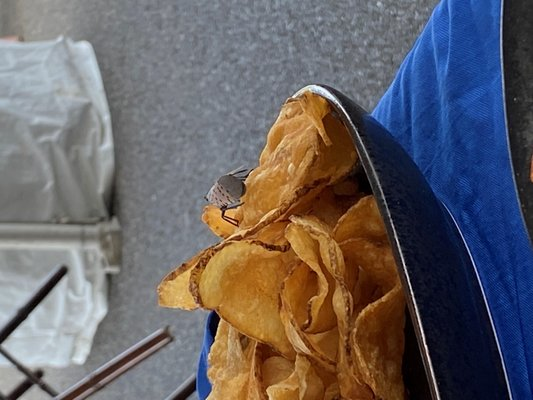soup: (157, 85, 419, 399)
